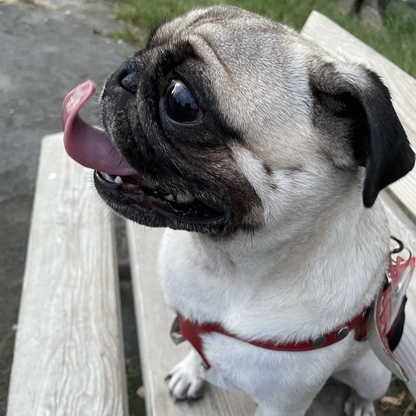Pug: (51, 2, 416, 416)
